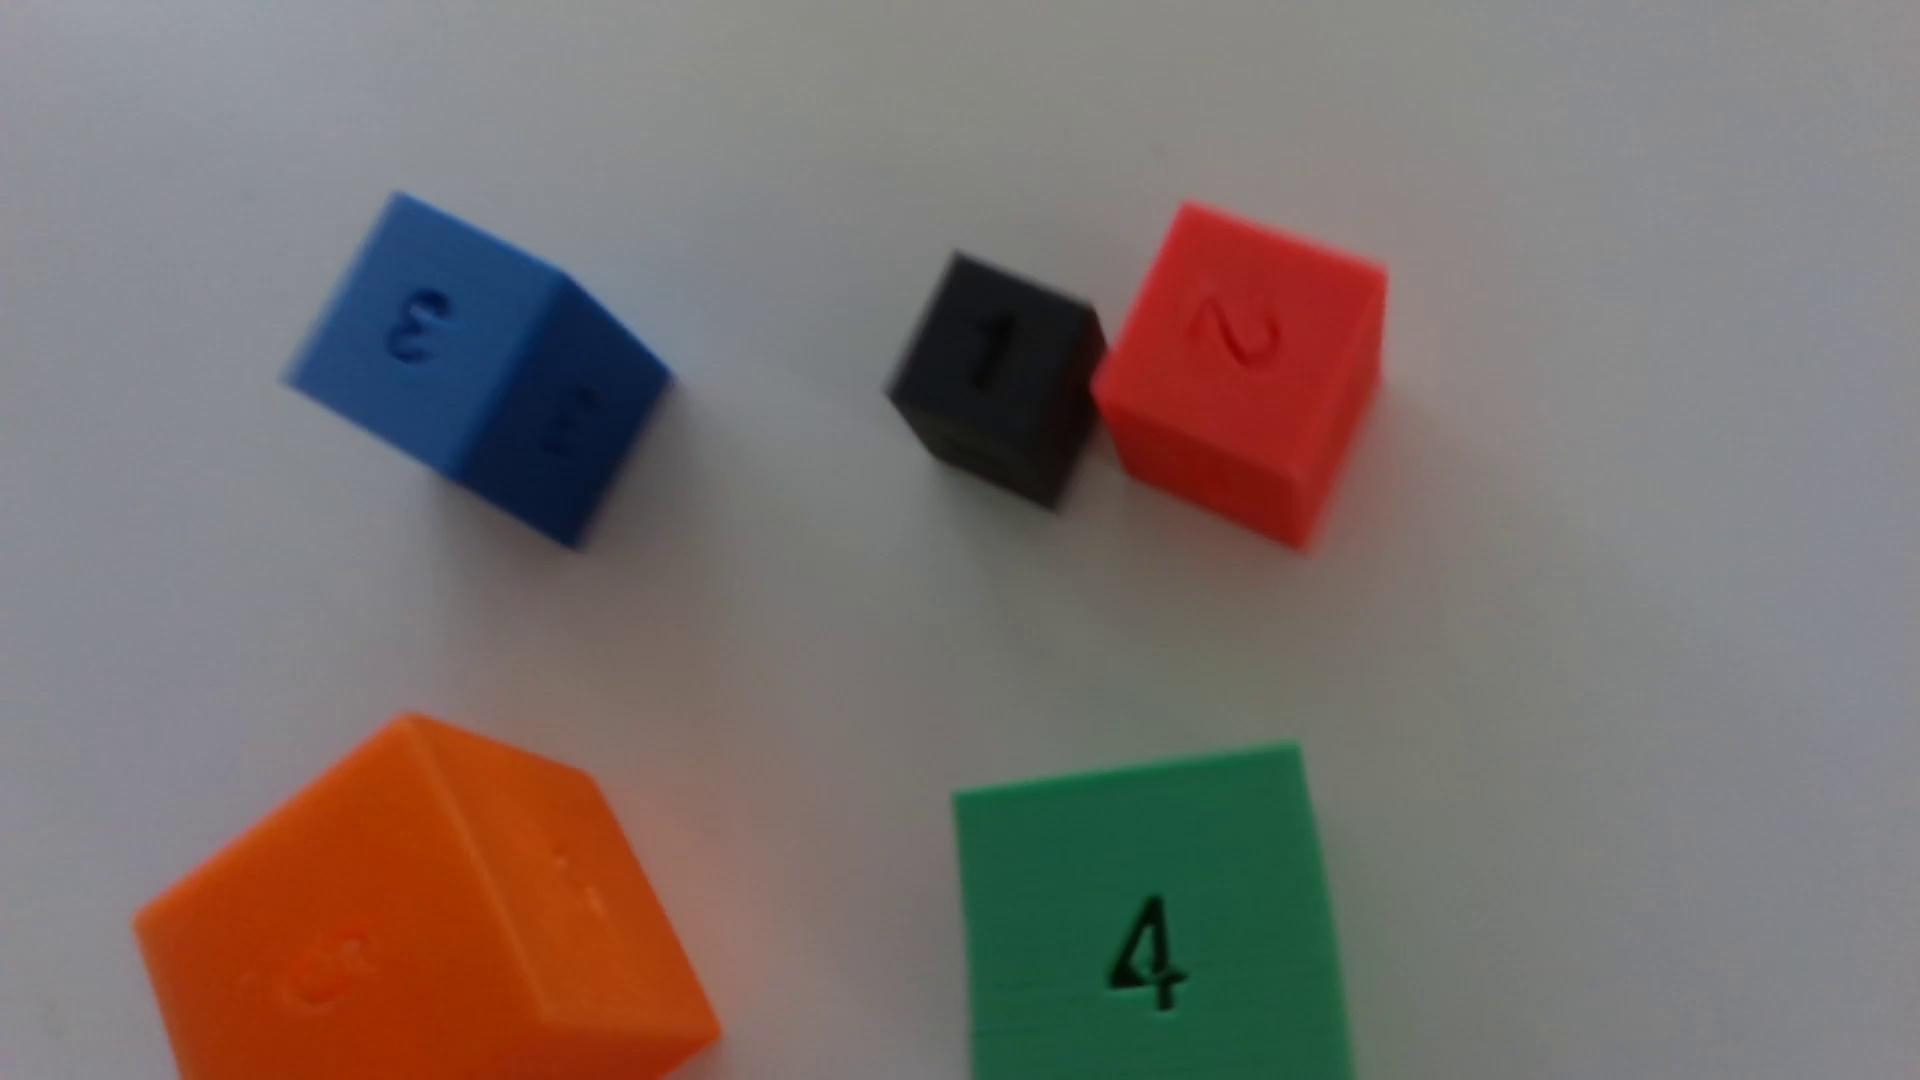black: (887, 255, 1105, 512)
blue: (287, 196, 671, 547)
green: (953, 745, 1353, 1080)
orange: (135, 716, 719, 1080)
red: (1095, 204, 1387, 550)
